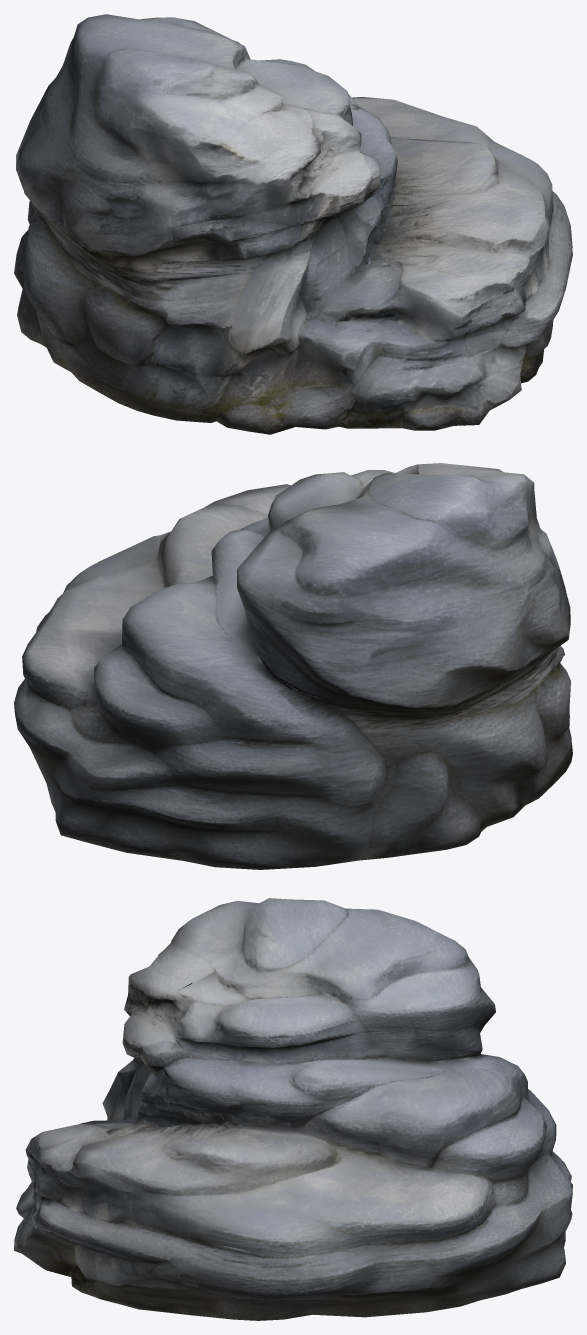
File: StrataRock.fbx
3 views of the same model, one above another, from view 1: azimuth 30°, elevation 25°; view 2: azimuth 150°, elevation 25°; view 3: azimuth 270°, elevation 25° (orthographic). The views are drawn at different scales.
Parts seen in each view (by area): view 1: StrataRock_LOD0; view 2: StrataRock_LOD0; view 3: StrataRock_LOD0.
Part boxes in pixels (box(x1,y1,x2,y2)): StrataRock_LOD0: box(14, 14, 572, 434); StrataRock_LOD0: box(14, 463, 572, 869); StrataRock_LOD0: box(14, 898, 572, 1320).
Size of the model in its own units: 3 by 1.72 by 3.23.
